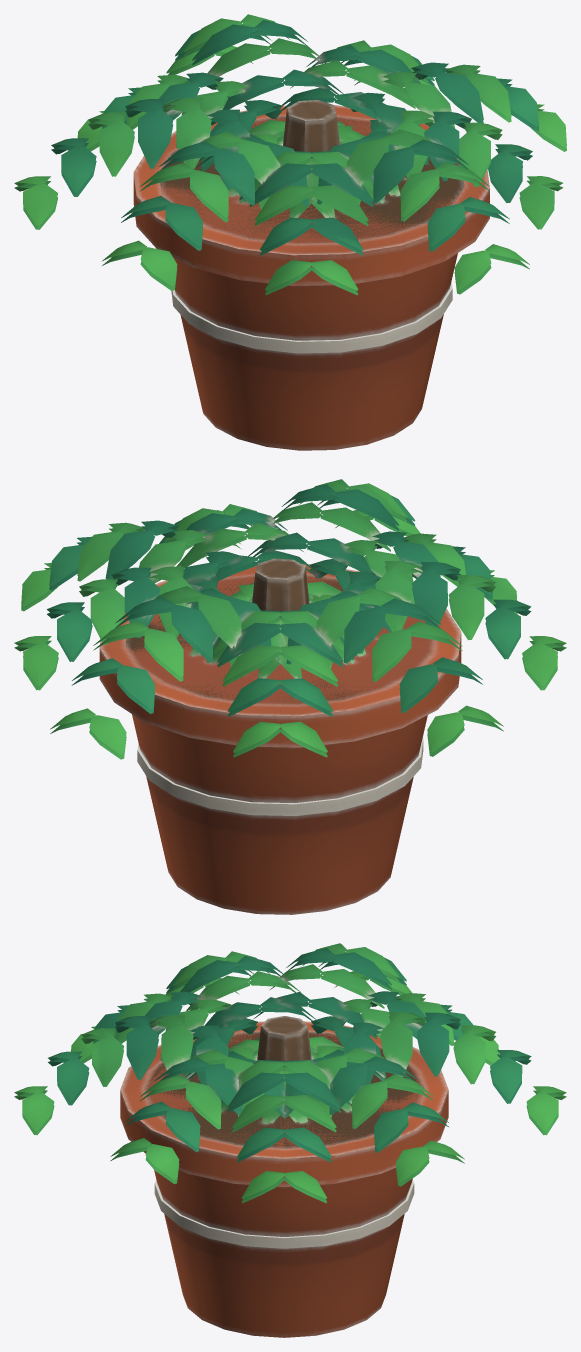
Rendered from plant_pot.glb.
3 renders of one model, top to bottom at view 1: azimuth 30°, elevation 25°; view 2: azimuth 150°, elevation 25°; view 3: azimuth 270°, elevation 25°, orthographic. The views are drawn at different scales.
Parts seen in each view (by area): view 1: SM_PlantPot; view 2: SM_PlantPot; view 3: SM_PlantPot.
Part boxes in pixels (left/top/right/bottom): SM_PlantPot: left=14, top=14, right=566, bottom=450; SM_PlantPot: left=14, top=479, right=566, bottom=914; SM_PlantPot: left=14, top=943, right=566, bottom=1337.
Size of what is drawn, in the model's own units: 1.33 by 0.8065 by 1.41.
1 material, 1 textured.
